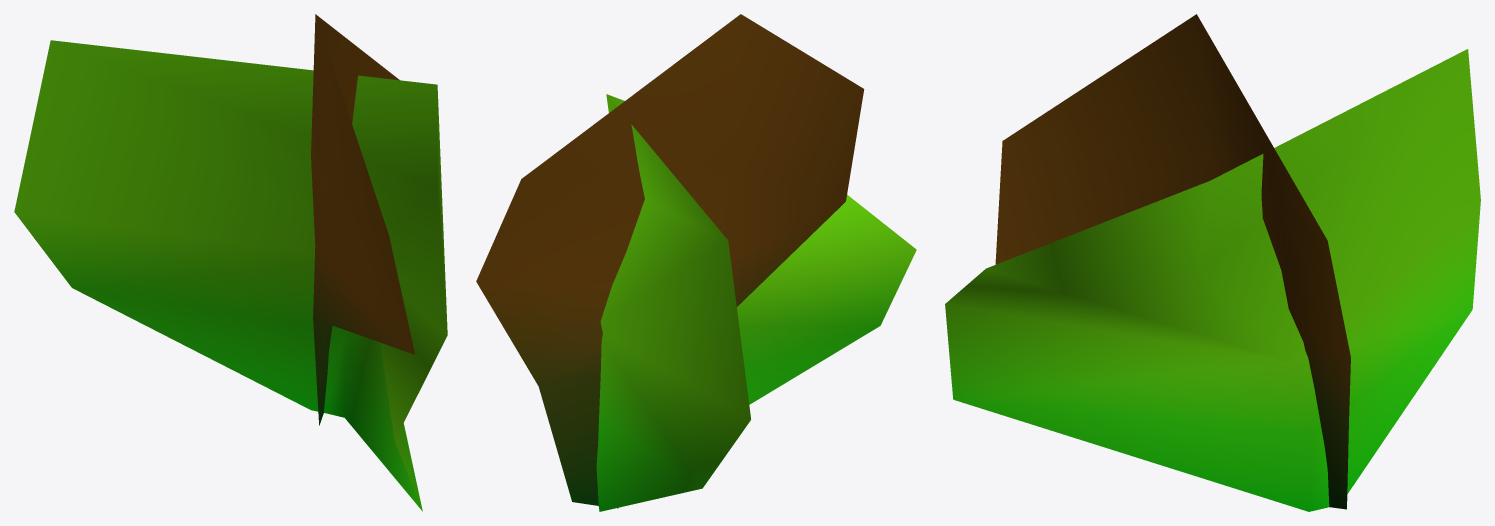
Rendered from Var1Hi24.fbx.
3 renders of one model, left to right at view 1: azimuth 30°, elevation 25°; view 2: azimuth 150°, elevation 25°; view 3: azimuth 270°, elevation 25°, orthographic. The views are drawn at different scales.
Parts seen in each view (by area): view 1: bend1; view 2: bend1; view 3: bend1.
Boxes of the visible parts, x1,y1,x2,y2 form: bend1: (14,14,447,511); bend1: (476,14,916,511); bend1: (945,14,1480,511).
Bounding box in the file's own units: 1.03 × 1.35 × 1.42.
